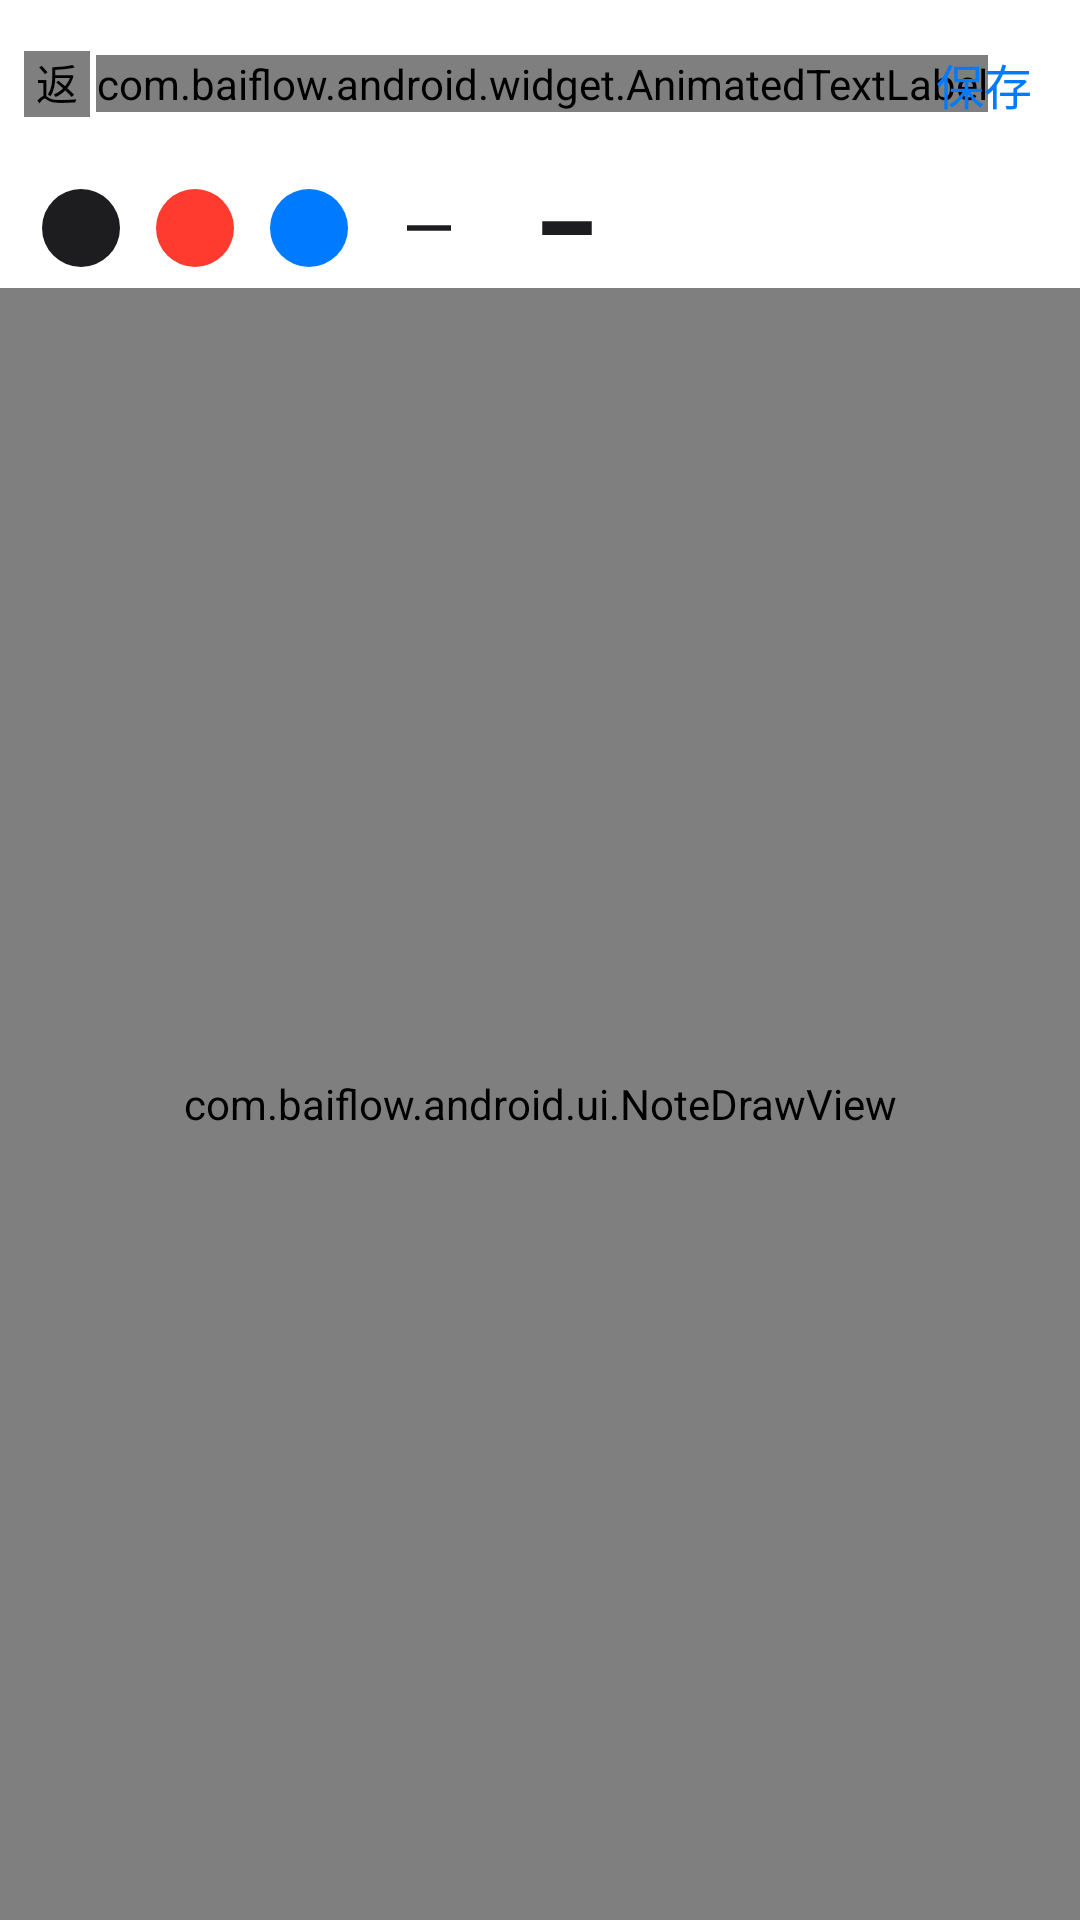

Where icons sit on this 1080 x 1920 app screen, as (x1, y1, x2, y2):
line thick: (542, 221, 592, 235)
